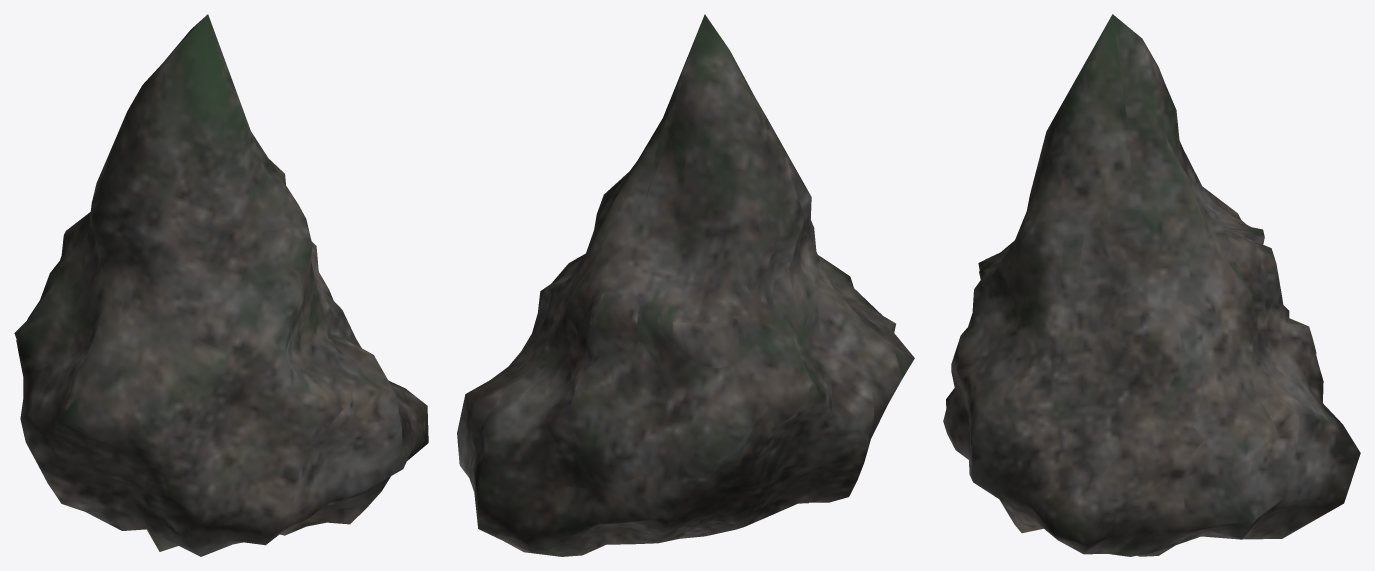
File: Estalactite 1.fbx
3 renders of one model, left to right at view 1: azimuth 30°, elevation 25°; view 2: azimuth 150°, elevation 25°; view 3: azimuth 270°, elevation 25°, orthographic. The views are drawn at different scales.
Visible parts, largest first — view 1: rock.004; view 2: rock.004; view 3: rock.004.
Part boxes in pixels (bbox=[...]): rock.004: bbox=[14, 14, 428, 556]; rock.004: bbox=[457, 14, 914, 556]; rock.004: bbox=[943, 14, 1360, 556].
Size of the model in its own units: 89.76 by 119 by 91.27.
1 material, 1 textured.
